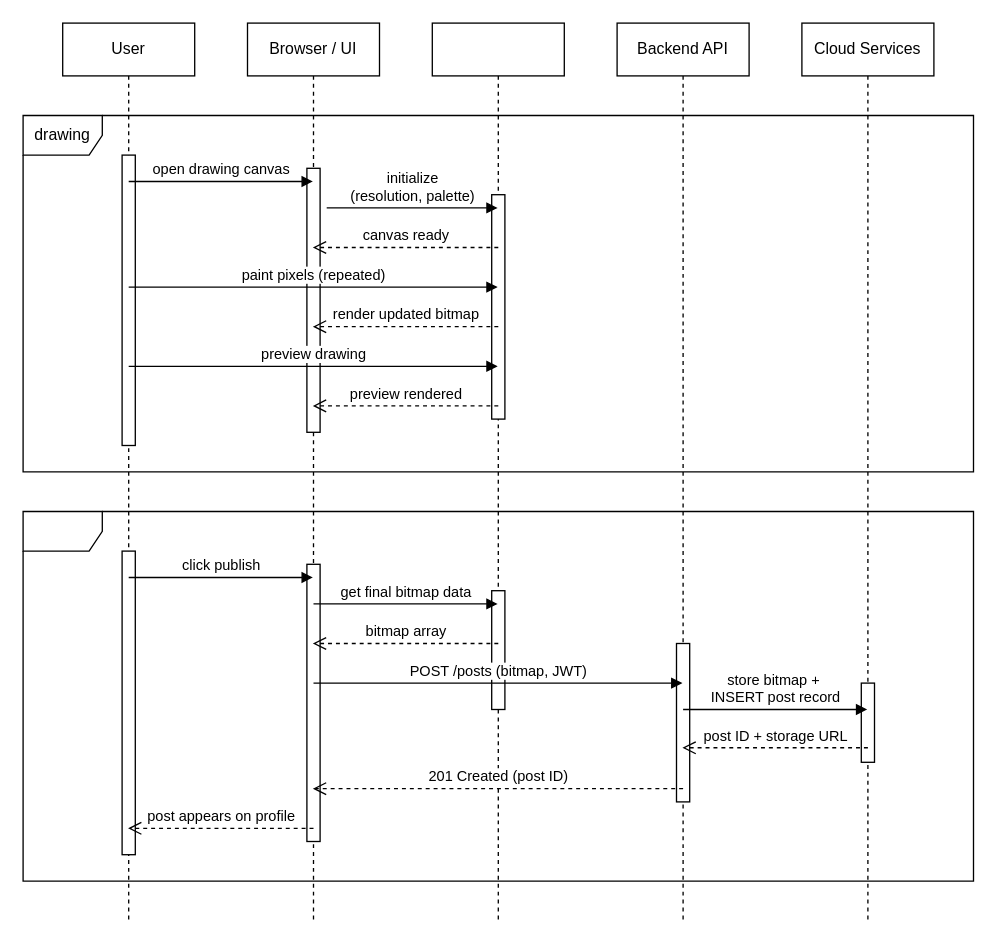
This 997x944 diagram has some shape labels left out. Here are the shapes that lost their labels. From the top down, the box of each, then its label:
(431, 22, 564, 921): Drawing Engine
(22, 510, 974, 881): publishing
